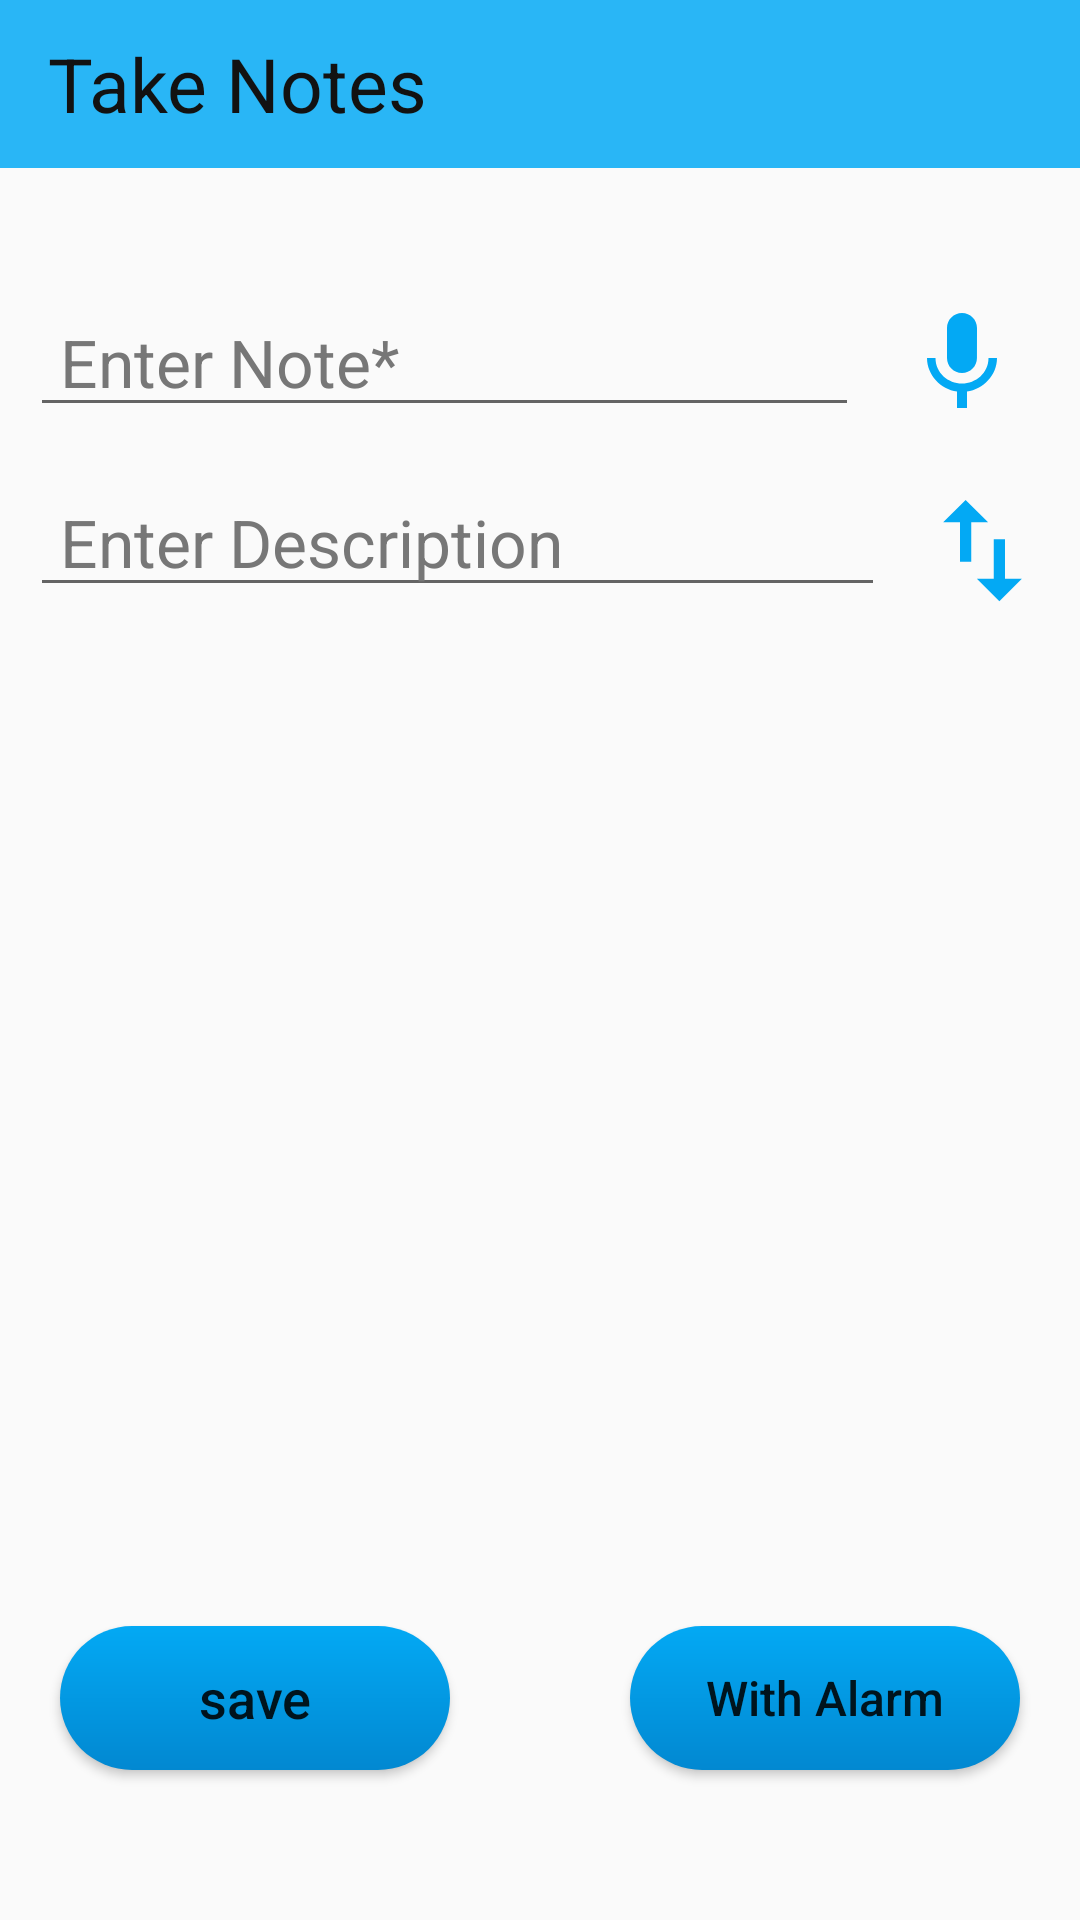

Where to tap for icons on this 1080×1920 app screen, as (x,y):
mic: (962,360)
swap: (982,550)
